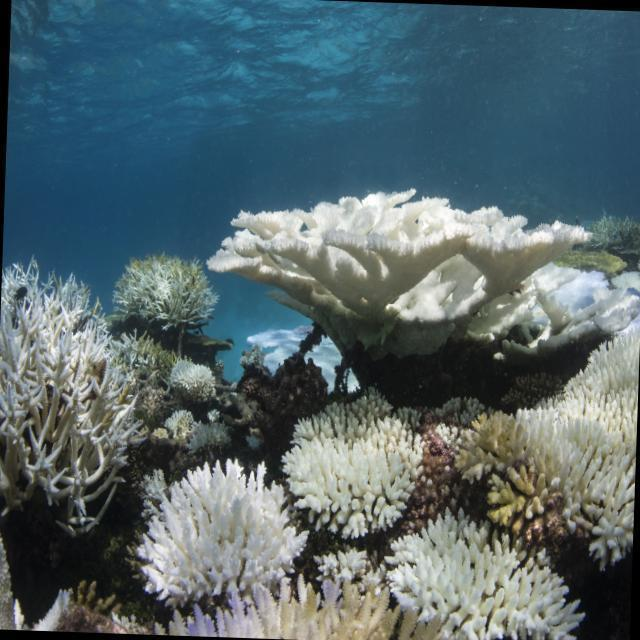Bleached Coral: (219, 180, 558, 353), (0, 255, 132, 537), (135, 455, 306, 613), (394, 512, 592, 633), (289, 409, 436, 554), (542, 347, 639, 563), (125, 265, 212, 326)
